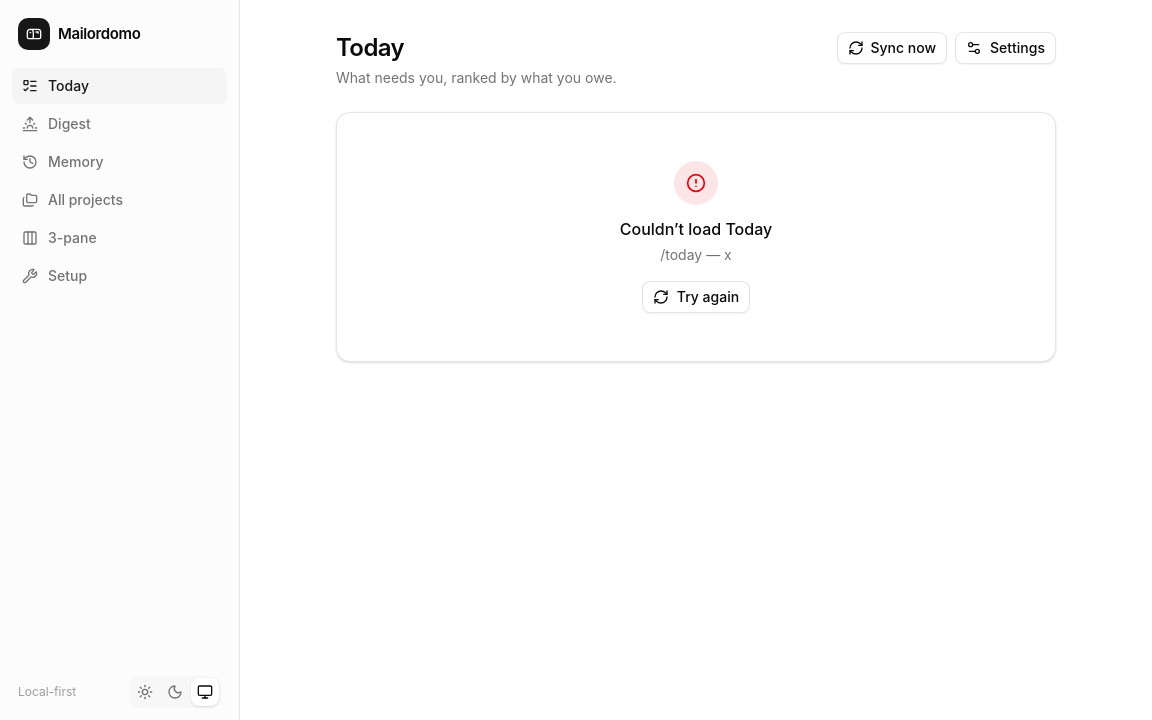
App view toggle (PROJECT.md §11 — never trapped; D32) › opening a thread from the board mounts the 7b work surface (no thread is unreachable)
Click the button "All projects": (120, 200) [12,182,227,218]
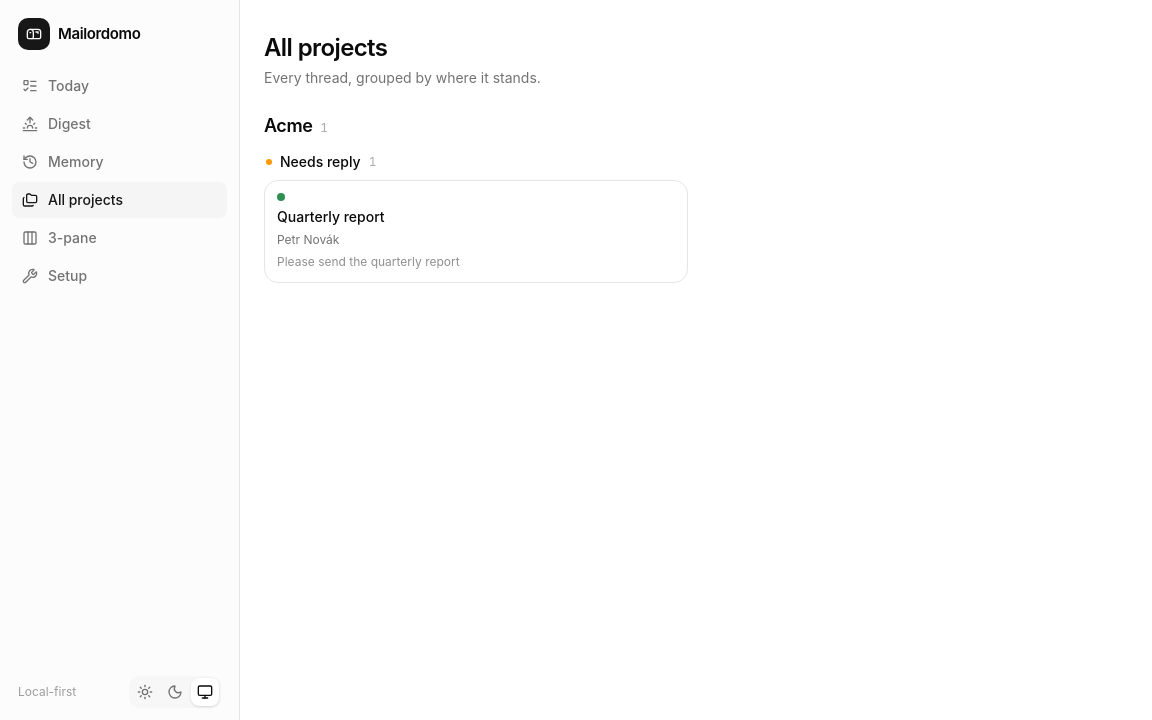
Click the heading "Quarterly report": (331, 216) [277,208,385,225]
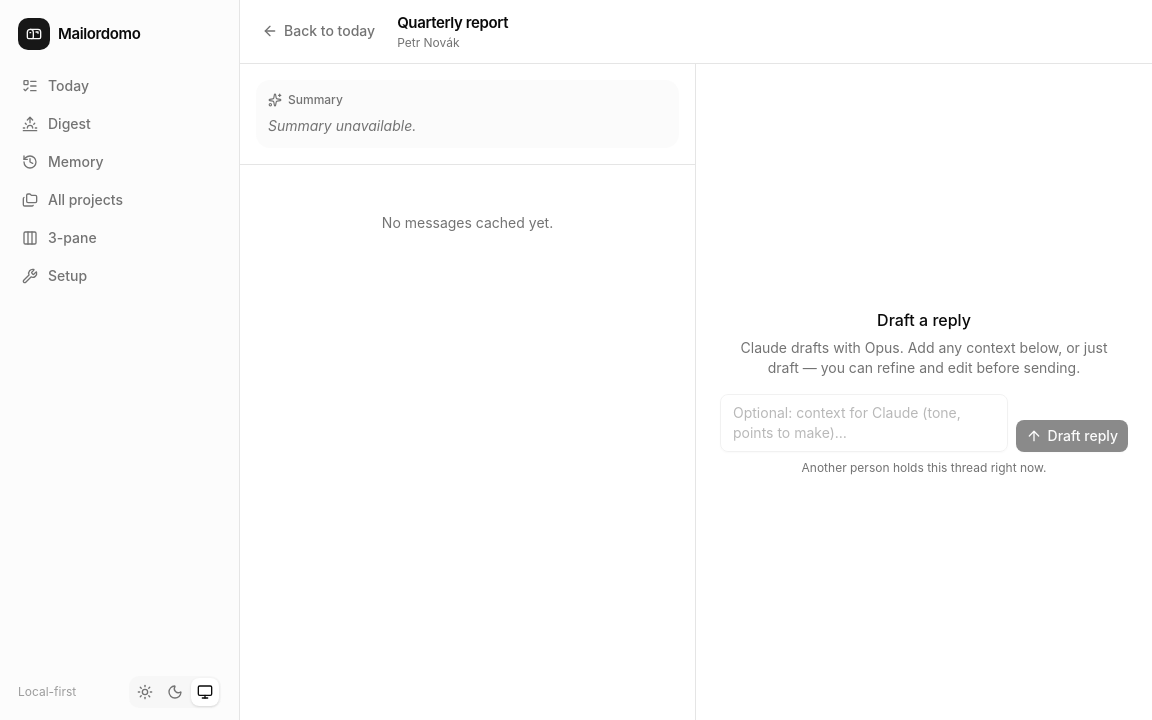
Expected: the button "Back to today" is shown, [252,15,385,47]
